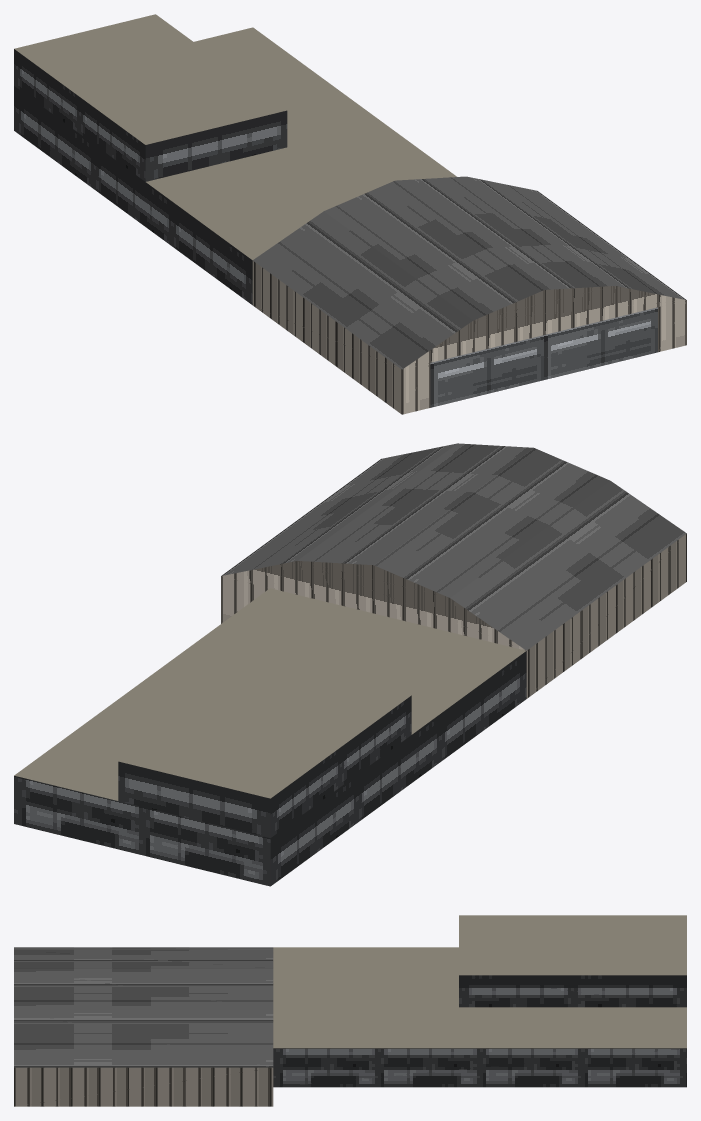
File: uvmd-0078.glb
3 renders of one model, top to bottom at view 1: azimuth 30°, elevation 25°; view 2: azimuth 150°, elevation 25°; view 3: azimuth 270°, elevation 25°, orthographic. The views are drawn at different scales.
Visible parts, largest first — view 1: uvmd-0078; view 2: uvmd-0078; view 3: uvmd-0078.
Boxes of the visible parts, x1,y1,x2,y2 form: uvmd-0078: [14, 14, 686, 414]; uvmd-0078: [14, 443, 686, 886]; uvmd-0078: [14, 915, 686, 1106].
Size of the model in its own units: 404 by 122 by 953.
Materials: 2 (2 with a texture image).
